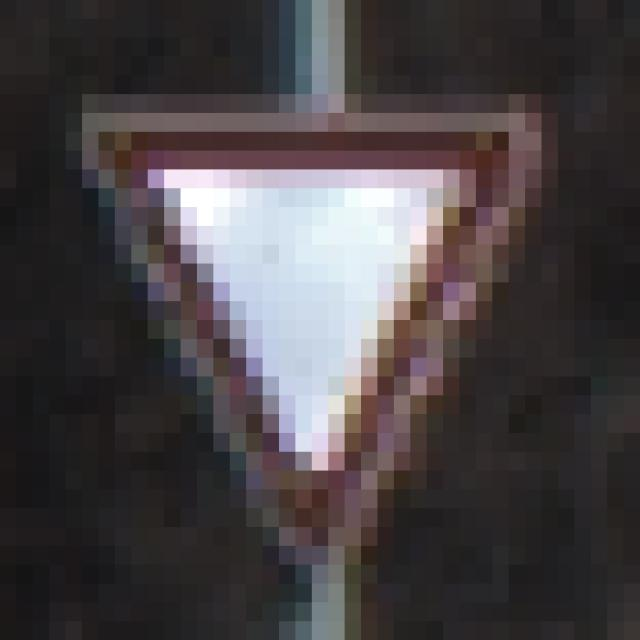Give Way: (83, 95, 559, 547)
